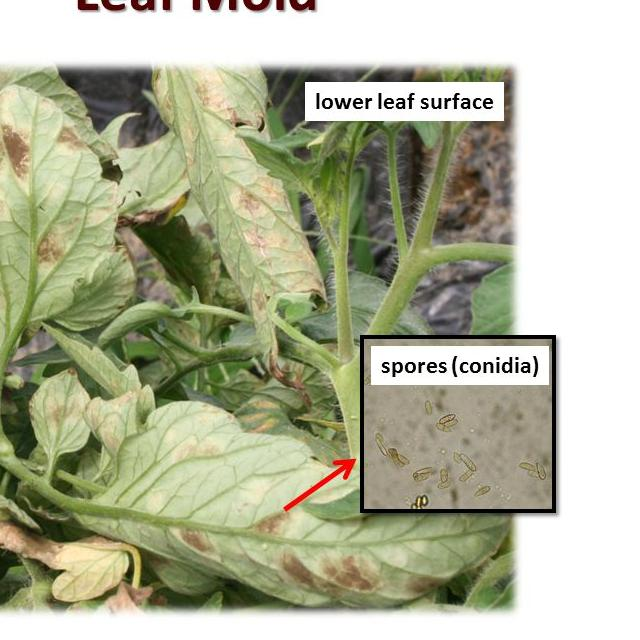Tomato mold leaf: (79, 385, 496, 602), (134, 70, 324, 357), (0, 80, 124, 382), (19, 366, 97, 466)
